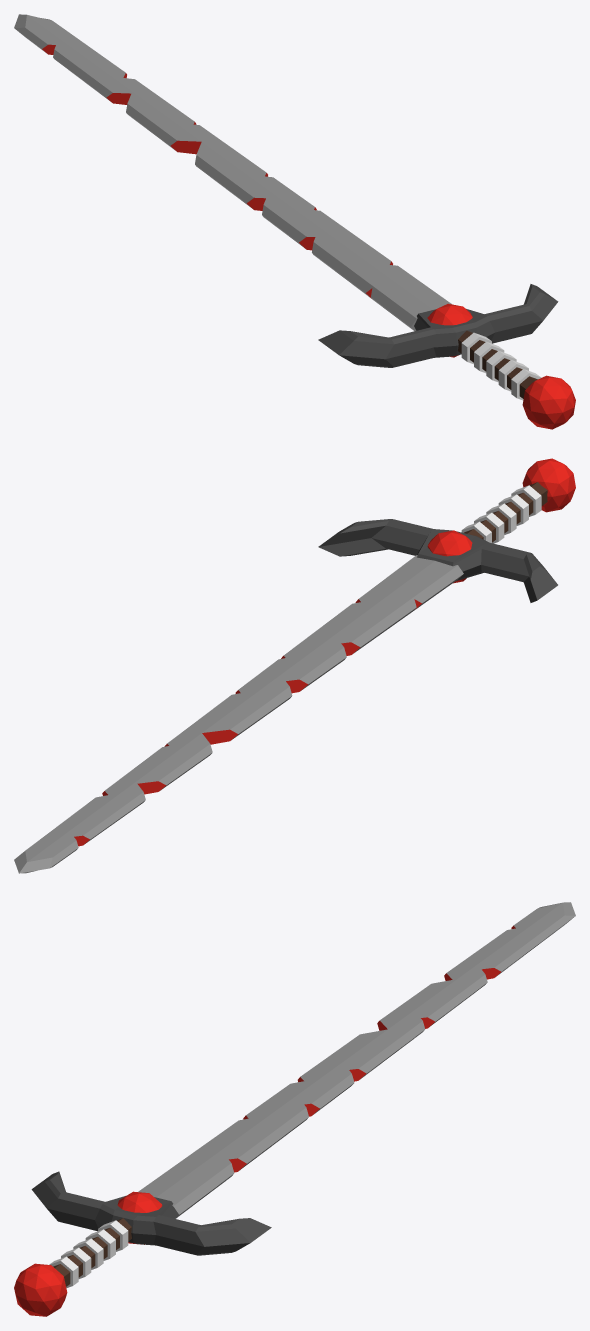
3 views of the same model, one above another, from view 1: azimuth 30°, elevation 25°; view 2: azimuth 150°, elevation 25°; view 3: azimuth 330°, elevation 25° (orthographic).
Parts seen in each view (by area): view 1: 61; view 2: 61; view 3: 61.
Boxes of the visible parts, <box> form: 61: <box>14,14,575,429</box>; 61: <box>14,458,575,873</box>; 61: <box>14,902,575,1316</box>.
Bounding box in the file's own units: 17.59 × 3.79 × 75.52.
